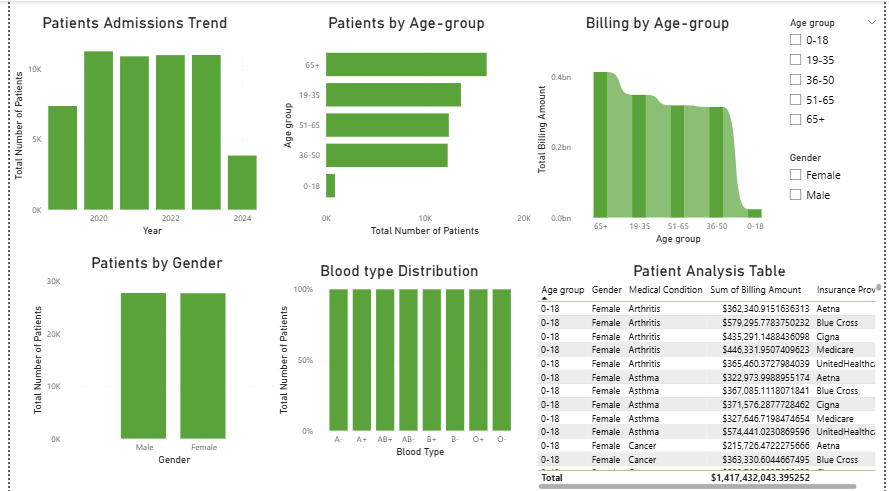

Layout of this report page (visuals, bound fields, positions):
{"tool":"powerbi","page":{"name":"Patients Analysis","canvas":[1280,720],"ordinal":1},"visuals":[{"type":"clusteredColumnChart","title":"Patients Admissions Trend","fields":{"Category":["healthcare_dataset.Date of Admission.Variation.Date Hierarchy.Year","healthcare_dataset.Date of Admission.Variation.Date Hierarchy.Quarter","healthcare_dataset.Date of Admission.Variation.Date Hierarchy.Month","healthcare_dataset.Date of Admission.Variation.Date Hierarchy.Day"],"Y":["healthcare_dataset.Total Number of Patients"]},"box":[0,19,365.9,329.3],"z":0},{"type":"clusteredBarChart","title":"Patients by Age-group","fields":{"Category":["healthcare_dataset.Age group"],"Y":["healthcare_dataset.Total Number of Patients"]},"box":[393.7,19,373.2,329.3],"z":1000},{"type":"lineStackedColumnComboChart","title":"Patients by Gender","fields":{"Category":["healthcare_dataset.Gender"],"Y":["healthcare_dataset.Total Number of Patients"]},"box":[27.8,370.2,374.6,313.2],"z":2000},{"type":"hundredPercentStackedColumnChart","title":"Blood type Distribution","fields":{"Category":["healthcare_dataset.Blood Type"],"Y":["healthcare_dataset.Total Number of Patients"]},"box":[387.8,382,364.4,289.8],"z":3000},{"type":"ribbonChart","title":"Billing by Age-group","fields":{"Category":["healthcare_dataset.Age group"],"Y":["healthcare_dataset.Total Billing Amount"]},"box":[765.4,19,364.4,341],"z":4000},{"type":"tableEx","title":"Patient Analysis Table","fields":{"Values":["healthcare_dataset.Age group","healthcare_dataset.Gender","healthcare_dataset.Medical Condition","Sum(healthcare_dataset.Billing Amount)","healthcare_dataset.Insurance Provider"]},"box":[766.8,382,513.7,338],"z":5000},{"type":"slicer","fields":{"Values":["healthcare_dataset.Age group"]},"box":[1128.3,19,152.2,218],"z":6000},{"type":"slicer","fields":{"Values":["healthcare_dataset.Gender"]},"box":[1128.3,216.6,152.2,175.6],"z":7000}]}

Visuals, with their boxes in screenshot pixels (x1, y1, x2, y2), scaled from the page's 1280x720 canvas onto the 889x491 screenshot:
"Patients Admissions Trend" clusteredColumnChart: 0/13/254/238
"Patients by Age-group" clusteredBarChart: 273/13/533/238
"Patients by Gender" lineStackedColumnComboChart: 19/252/279/466
"Blood type Distribution" hundredPercentStackedColumnChart: 269/261/522/458
"Billing by Age-group" ribbonChart: 532/13/785/246
"Patient Analysis Table" tableEx: 533/261/888/490
slicer - healthcare_dataset.Age group: 784/13/888/162
slicer - healthcare_dataset.Gender: 784/148/888/267
